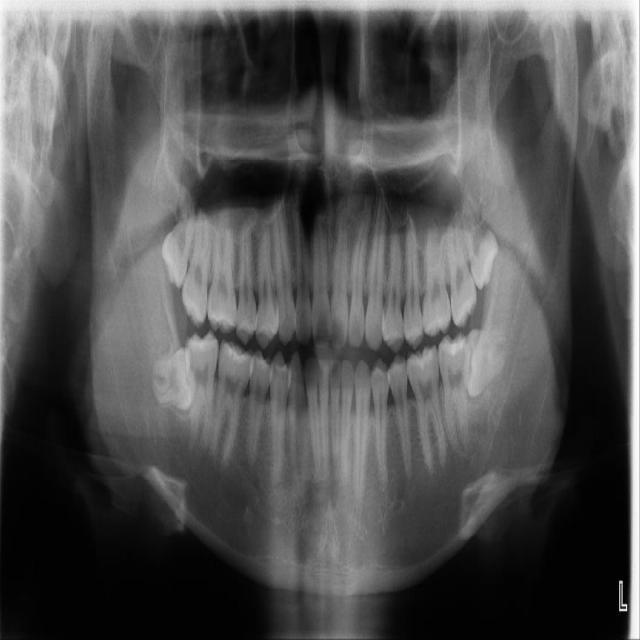3M ESPE Implant: (155, 204, 199, 289)
73: (586, 580, 594, 602)
BioHorizons Implant: (446, 212, 479, 331)
BioLife Implant: (455, 190, 507, 292)
Biomet 3i Implant: (457, 327, 510, 403)
Blue Sky Bio Implant: (436, 330, 471, 451)
Caries: (180, 216, 211, 328)
Implant: (186, 332, 221, 451)
Keystone Dental Implant: (149, 345, 199, 413)
